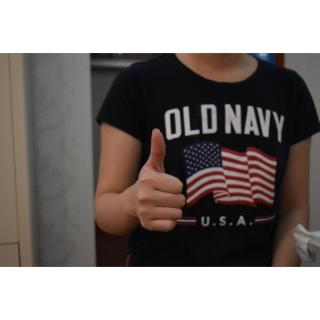ALIF: (131, 126, 187, 241)
